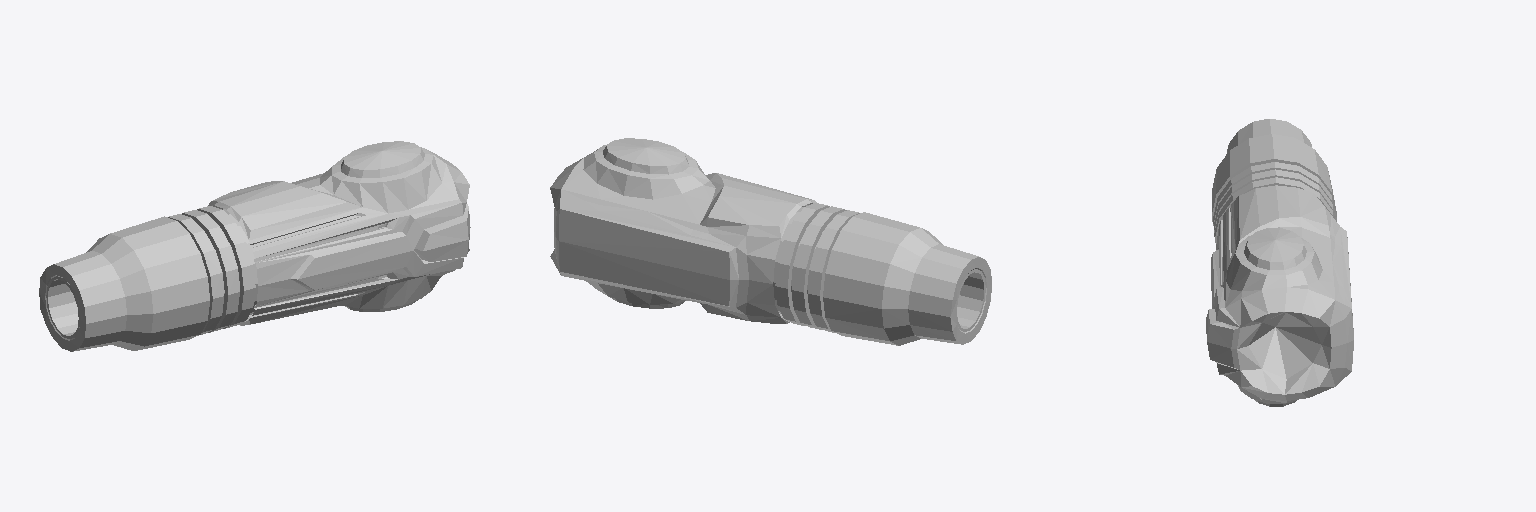
The model's file is Power Beam.obj.
3 renders of one model, left to right at view 1: azimuth 30°, elevation 25°; view 2: azimuth 150°, elevation 25°; view 3: azimuth 270°, elevation 25°, orthographic.
Visible parts, largest first — view 1: e88d10e1_CMDL; view 2: e88d10e1_CMDL; view 3: e88d10e1_CMDL.
Part boxes in pixels (left/top/right/bottom): e88d10e1_CMDL: left=39, top=141, right=470, bottom=351; e88d10e1_CMDL: left=550, top=138, right=991, bottom=345; e88d10e1_CMDL: left=1206, top=119, right=1353, bottom=406.
Size of the model in its own units: 0.6047 by 0.2209 by 0.1944.